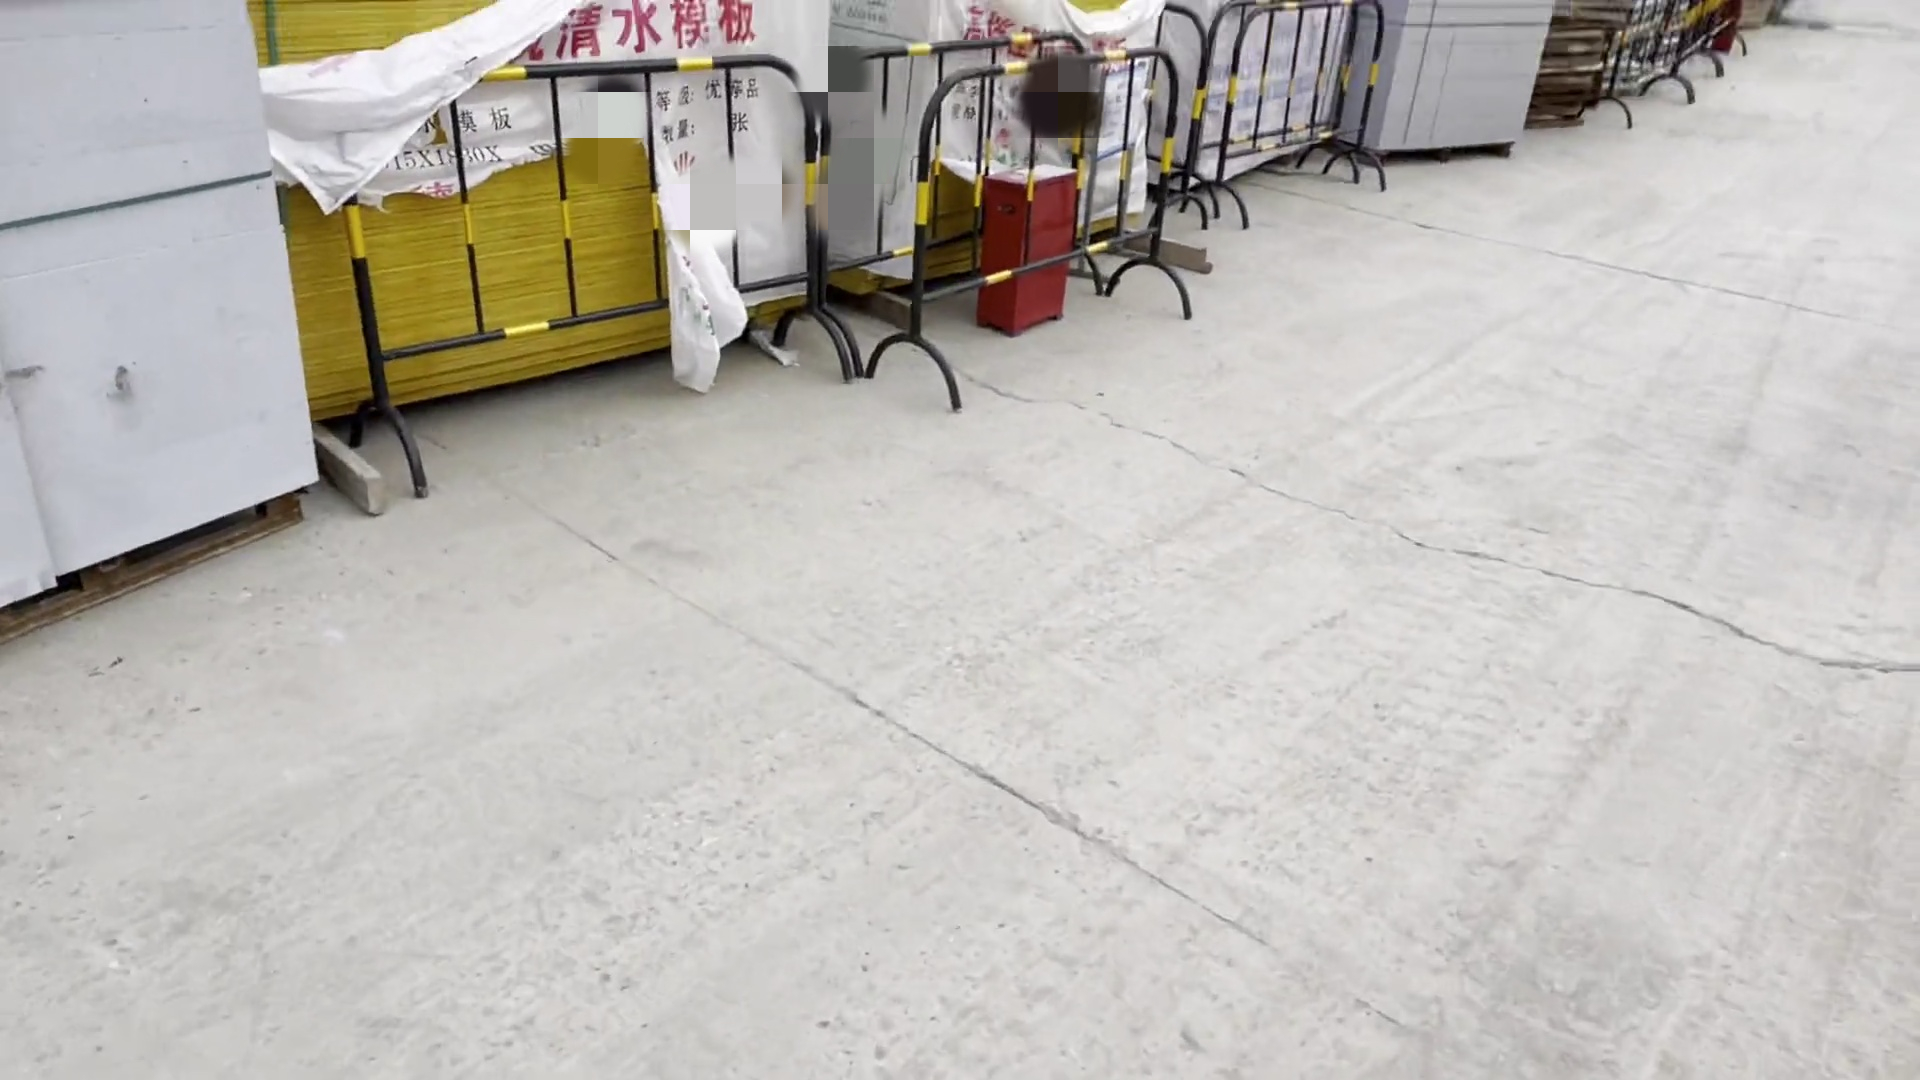fence: (313, 57, 866, 493), (893, 46, 1205, 407), (1200, 1, 1400, 222), (1598, 1, 1695, 102), (1697, 1, 1756, 76)
